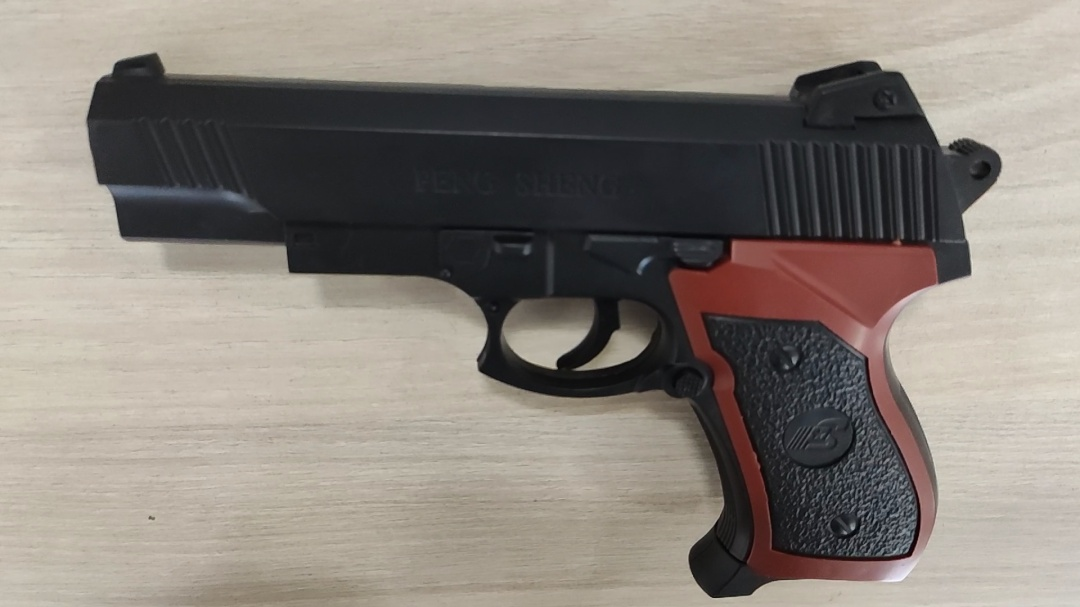gun: (410, 251, 486, 328)
